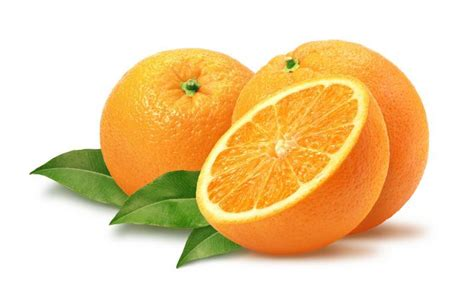orange: (92, 40, 248, 196), (236, 37, 431, 154)
